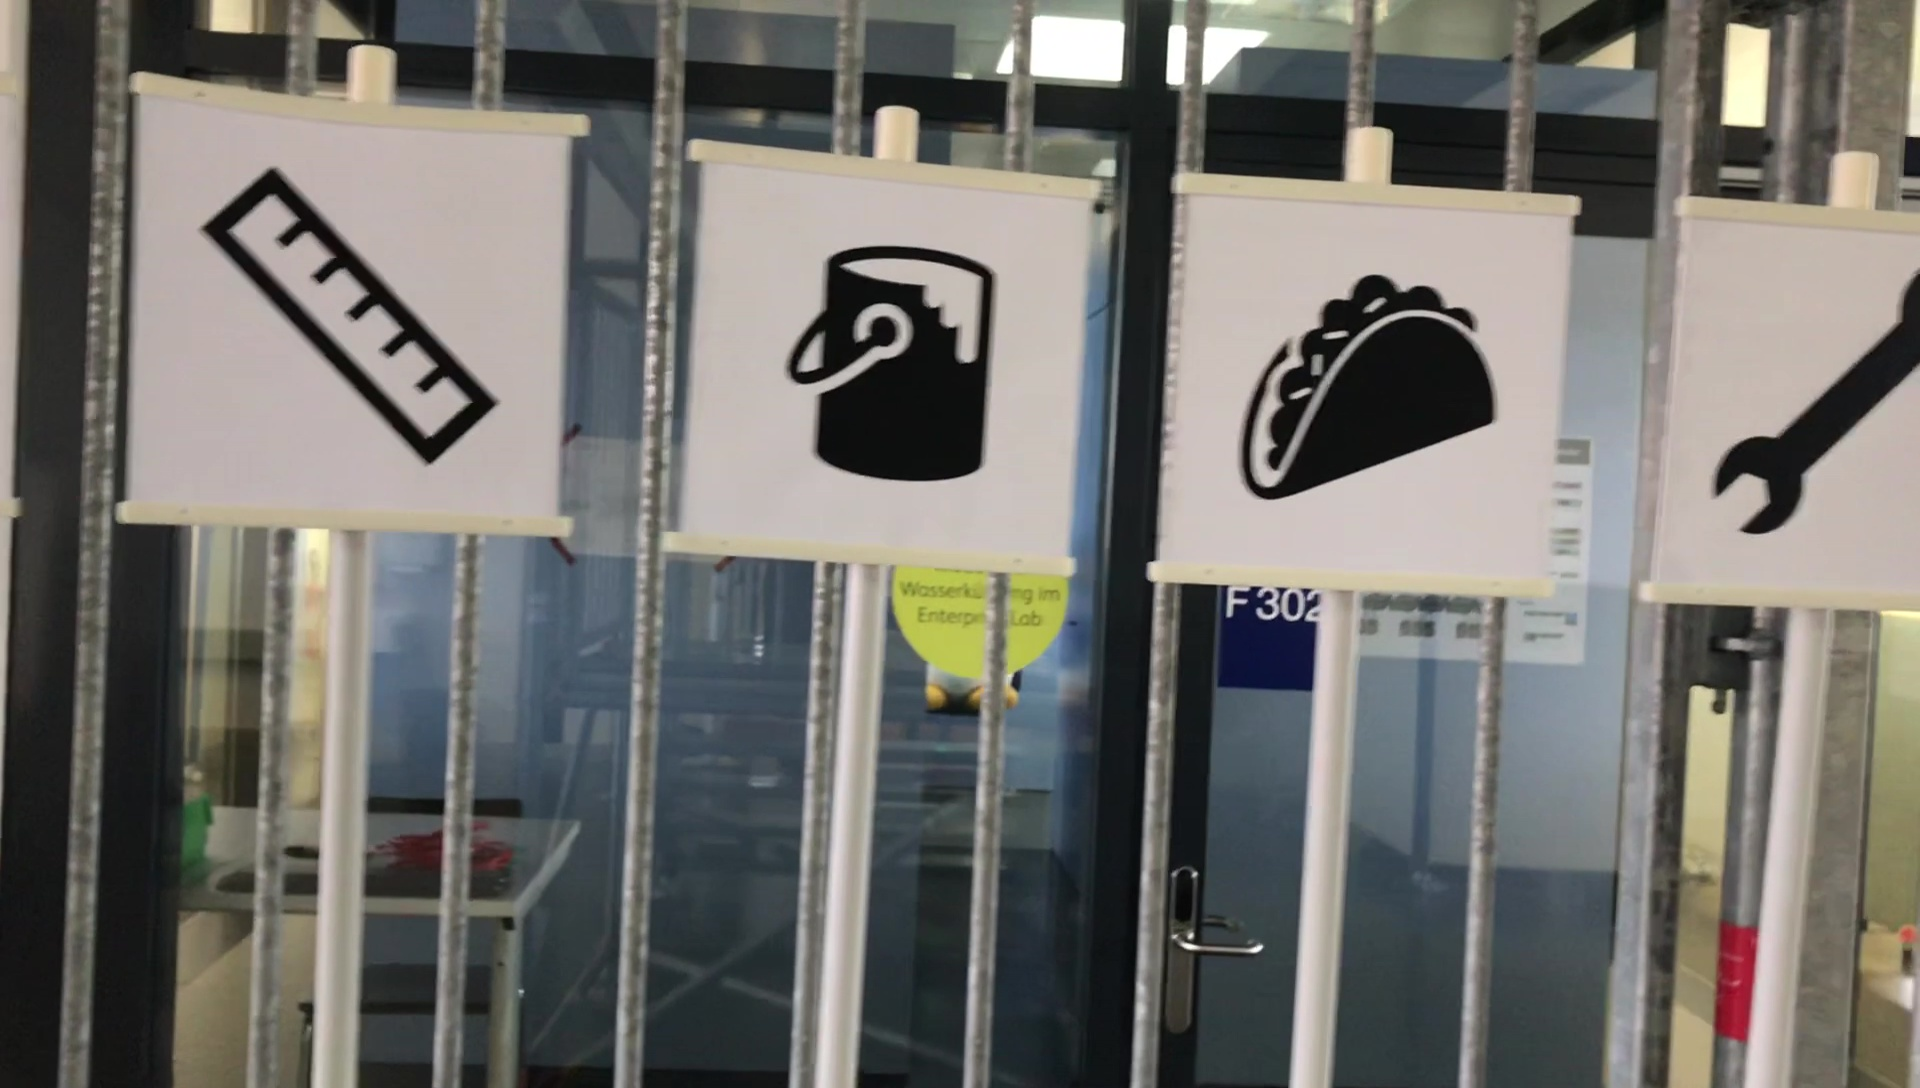bucket: (778, 244, 1000, 500)
ruler: (193, 162, 501, 469)
taco: (1238, 268, 1511, 499)
wrench: (1714, 249, 1920, 534)
